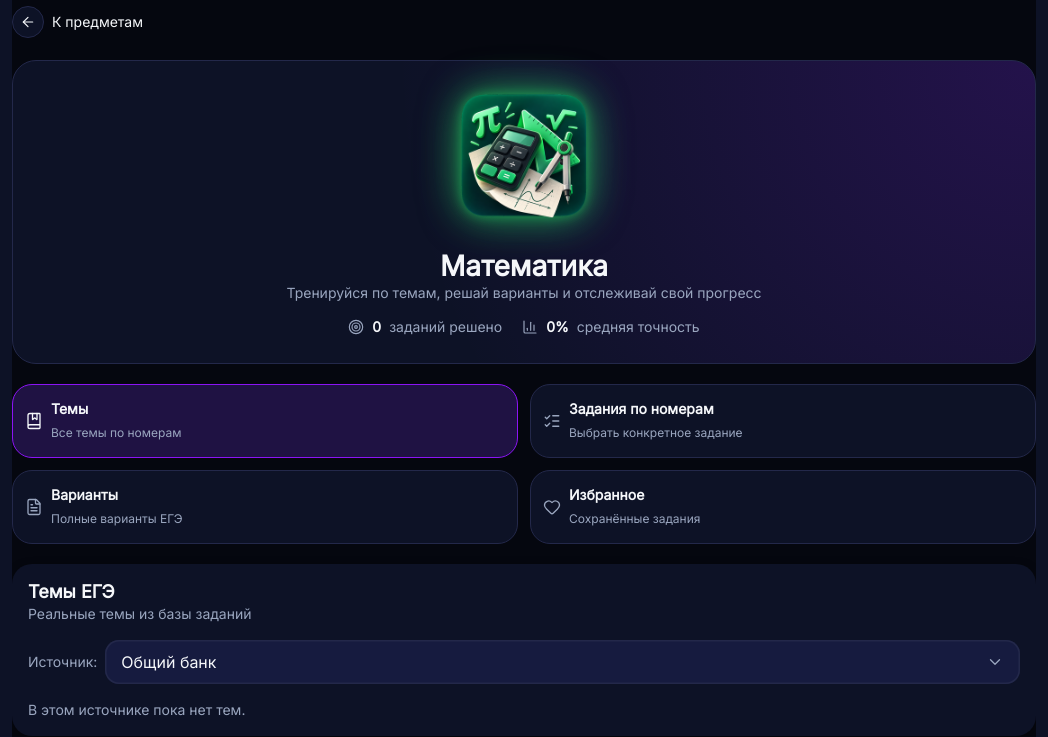
SubjectDesktop — Варианты (real collections, source isolation) › "Выбрать всё" selects every task number
The width and height of the screenshot is (1048, 737).
Click the text "Полные варианты ЕГЭ".
click(117, 519)  # box left=51, top=507, right=182, bottom=531
(page scrolled)
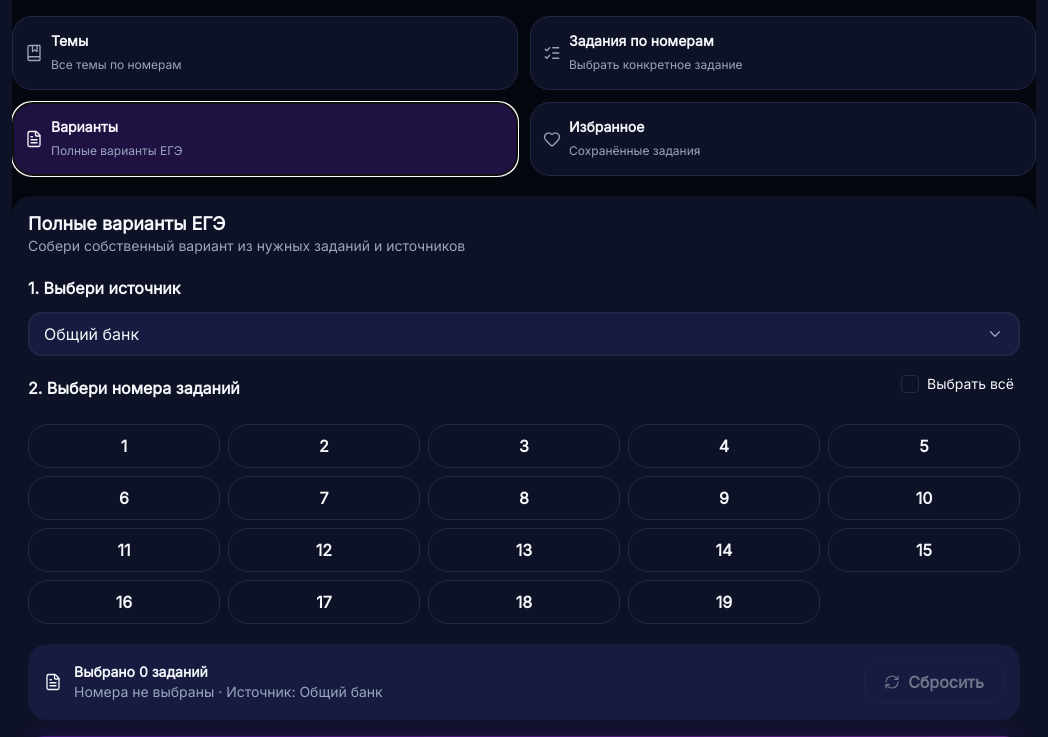
Click the button "Выбрать всё".
click(958, 384)  # box left=895, top=362, right=1020, bottom=406
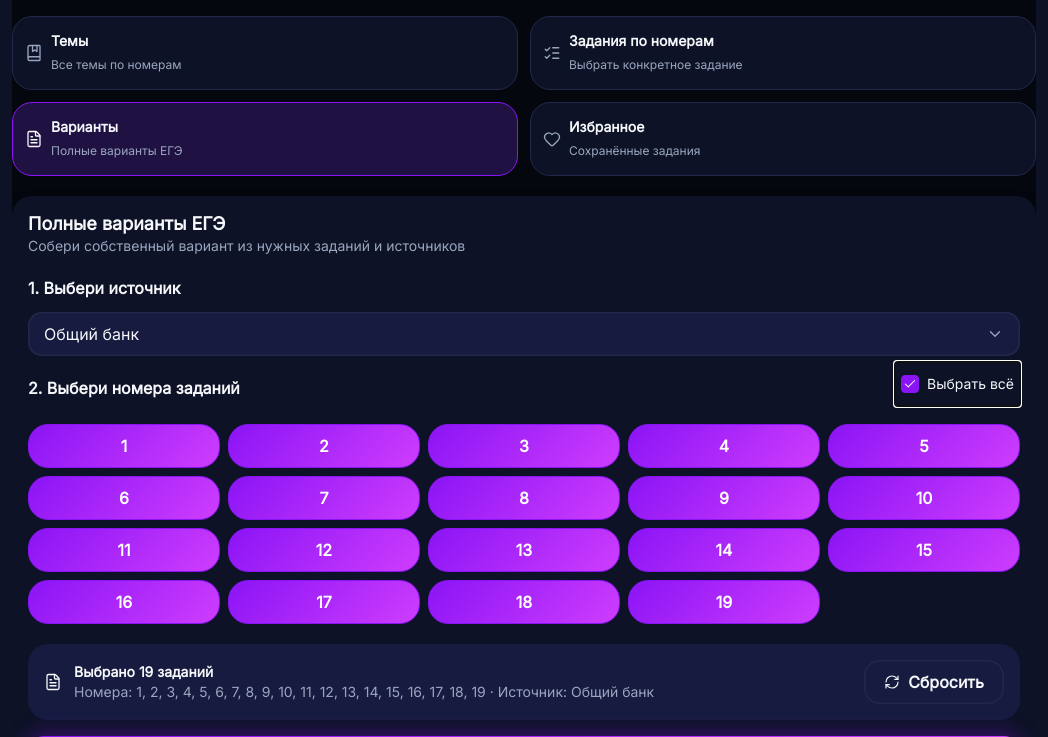
Result: the text "Выбрано 19 заданий" is shown at left=74, top=663, right=213, bottom=680
